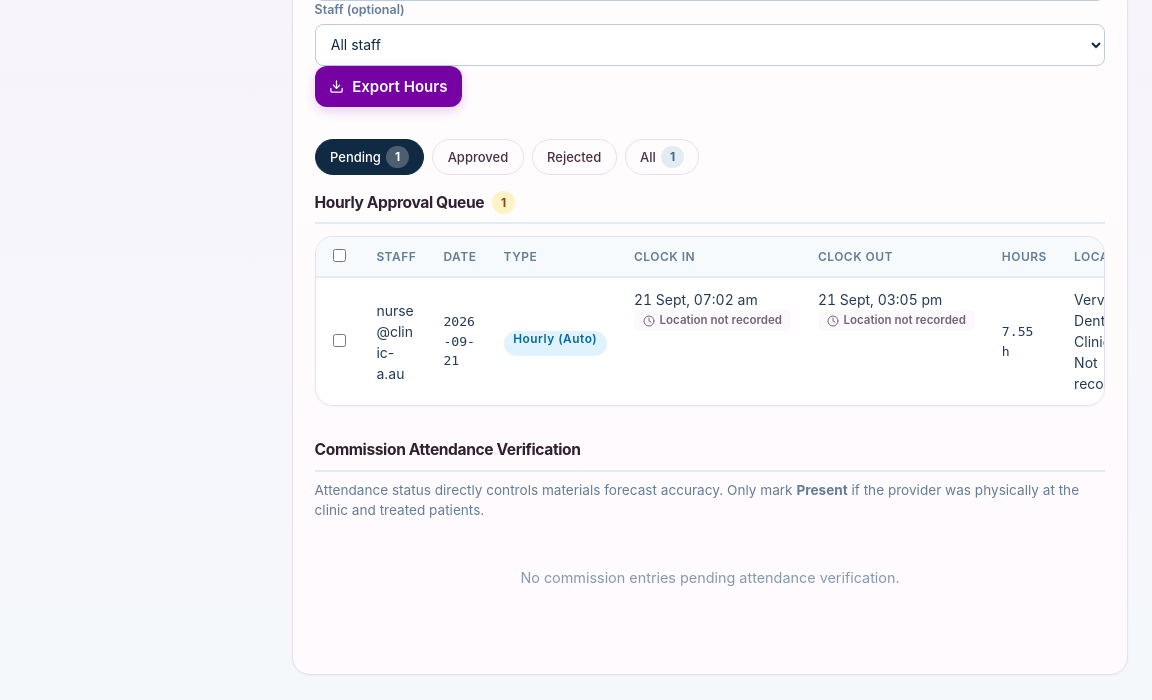
ApprovalQueue — bulk approval flow › bulk approval result summary shows approved count after success
(page scrolled)
Expected: the cell "nurse@clinic-a.au" is shown, [363, 277, 430, 405]
Click the checkbox named "select timesheet for" at (340, 341), box [333, 334, 346, 347]
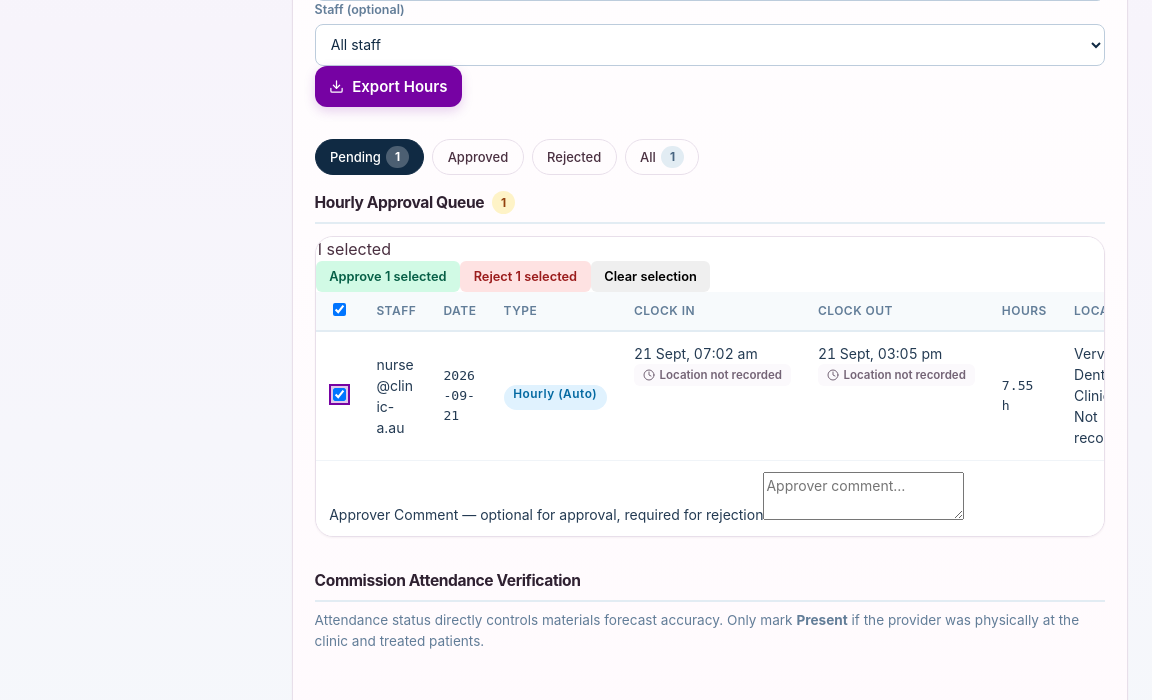
Click the button "Approve 1 selected" at (388, 276), box [316, 261, 460, 292]
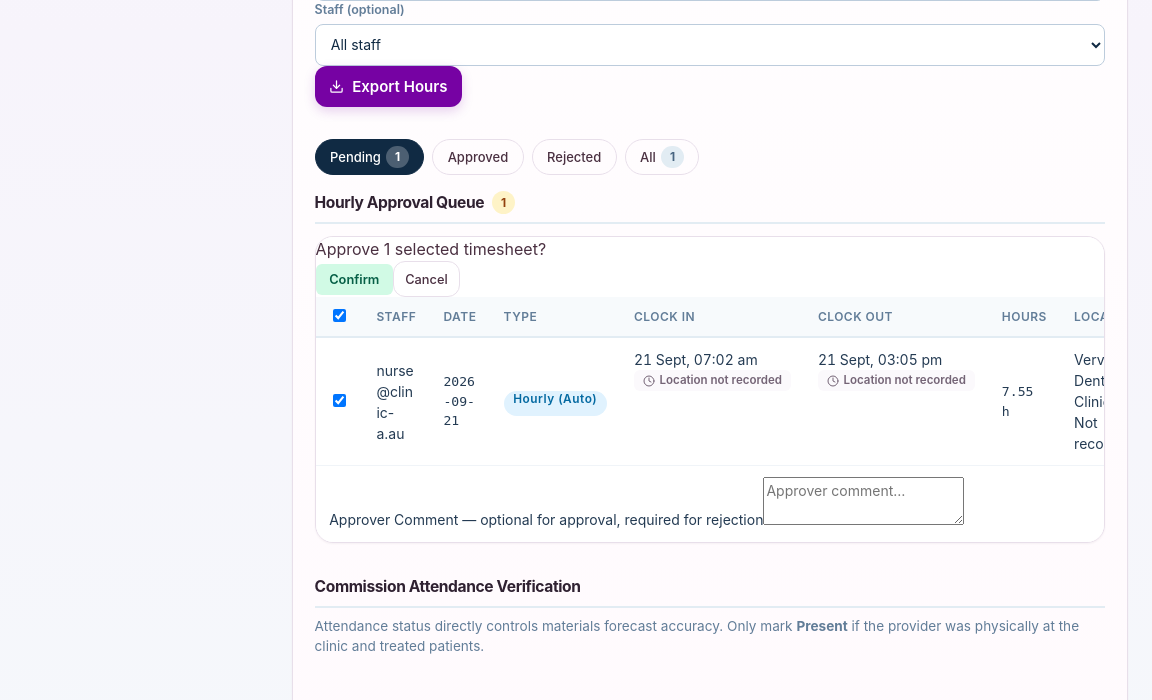
Click the button "Confirm" at (354, 279), box [316, 264, 393, 294]
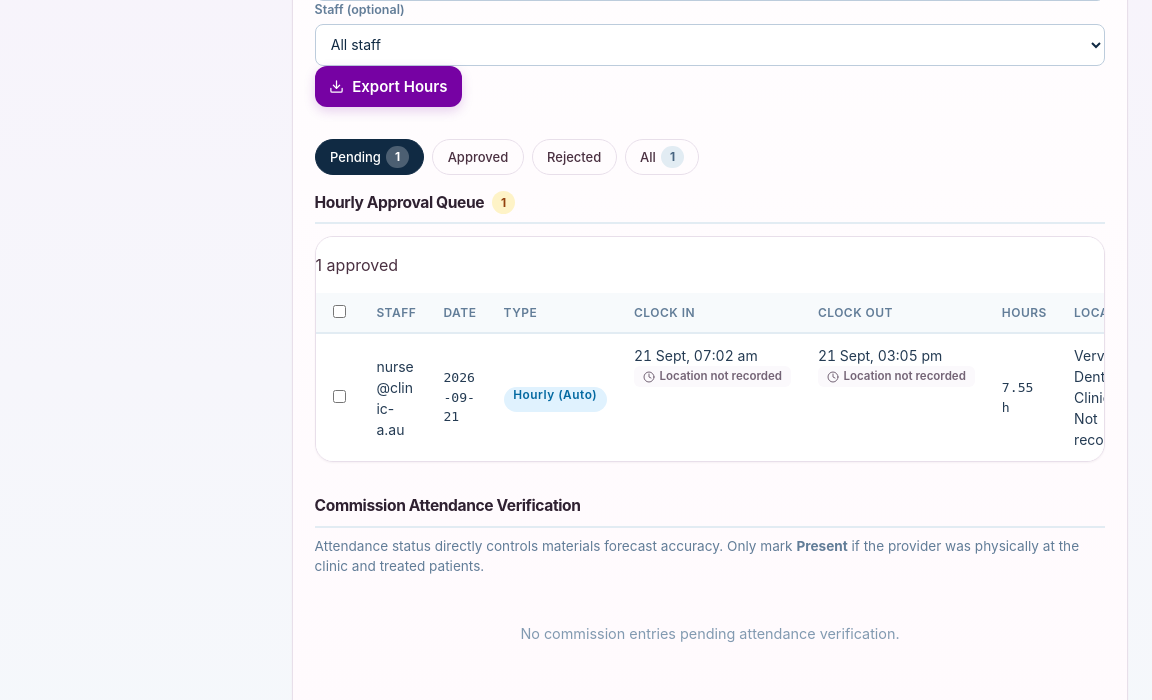
Now the message reads "1 approved", box [316, 255, 398, 275]
